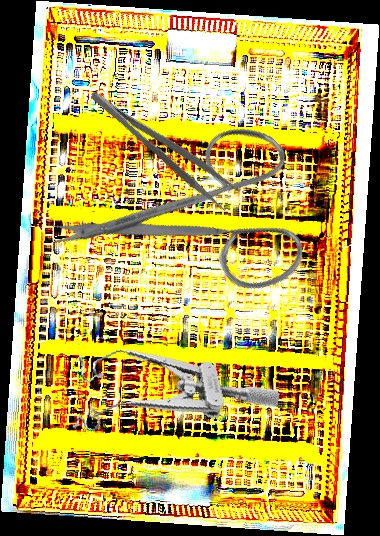Dressing Forceps: (86, 75, 243, 215)
Iris Scissors: (40, 68, 352, 380)
Speculum: (55, 316, 284, 450)
